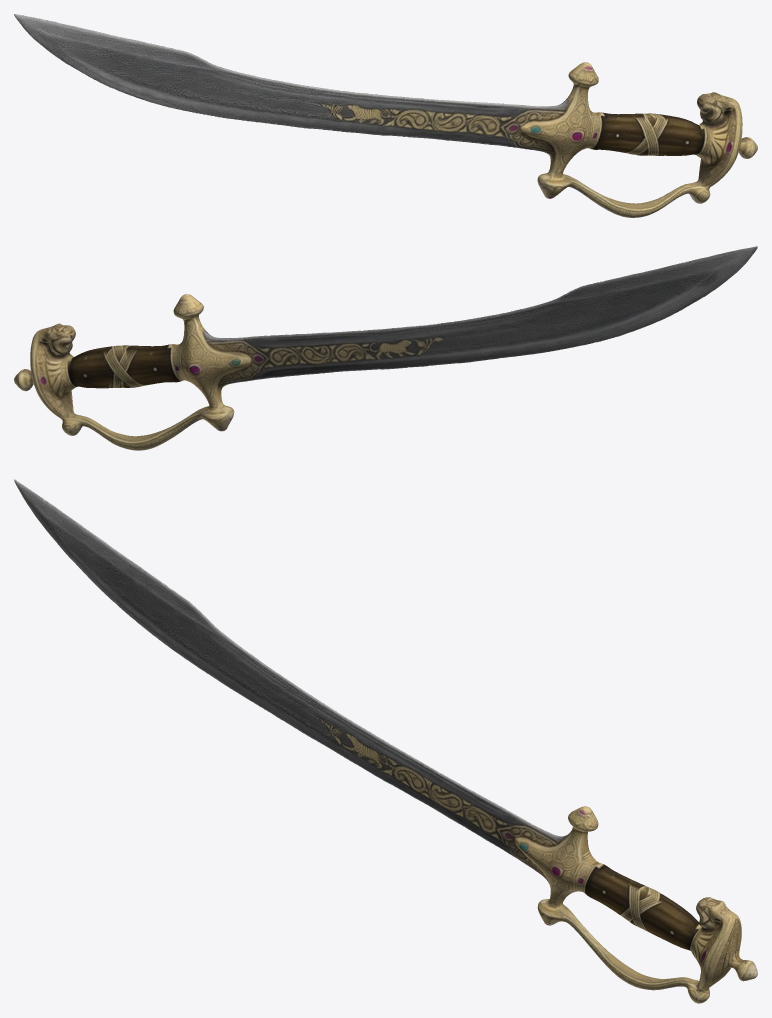
The model's file is Sword.glb.
3 views of the same model, one above another, from view 1: azimuth 30°, elevation 25°; view 2: azimuth 150°, elevation 25°; view 3: azimuth 330°, elevation 25° (orthographic).
Bounding box in the file's own units: 1.9 × 0.8683 × 0.1235.
1 material, 1 textured.
